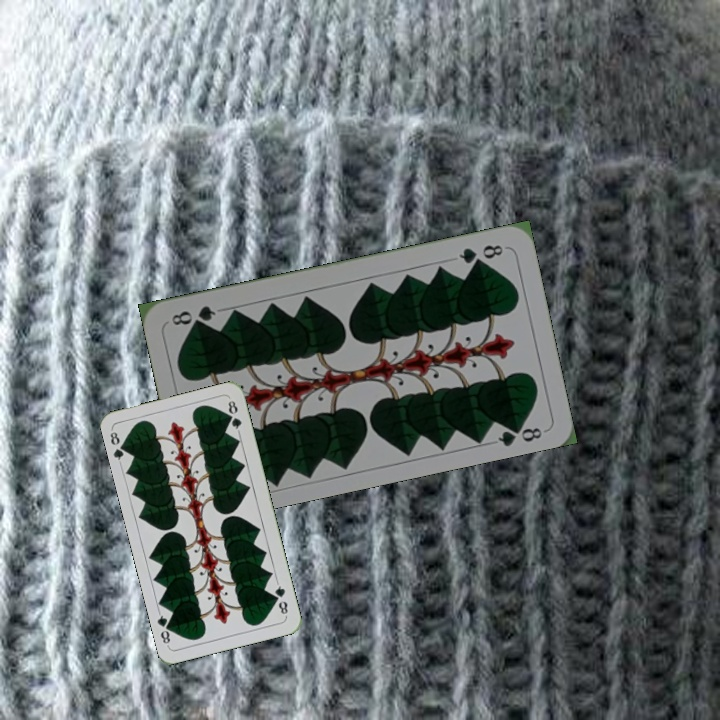G8: (455, 240, 506, 266), (106, 426, 130, 466), (271, 579, 290, 619)
